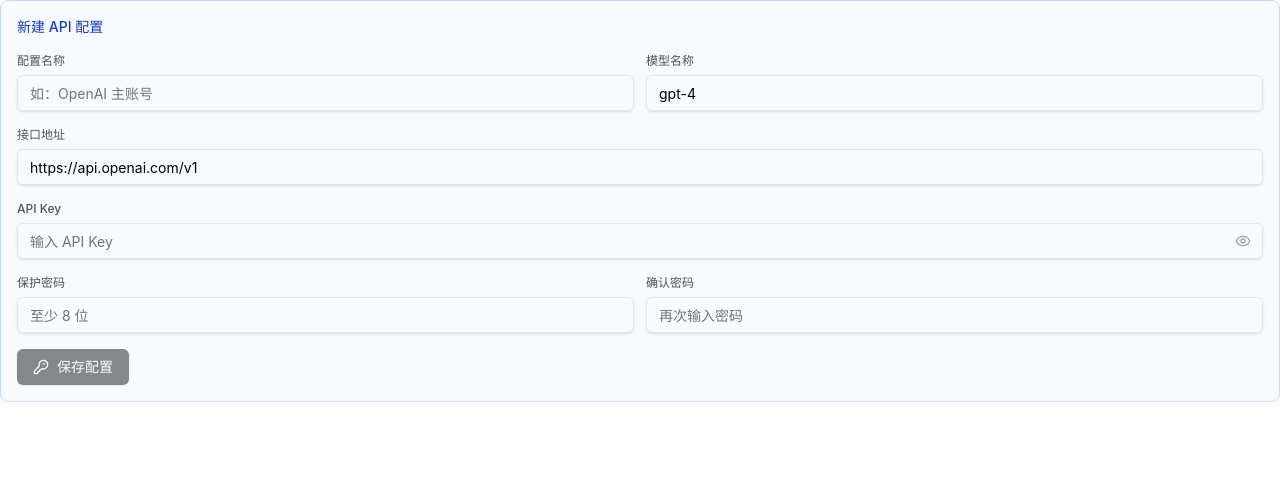
APISettings - Mode A: no API key configured › shows weak password error on first-time save
Type "OpenAI 主账号" into the field labelled "配置名称".
click(326, 93); type("OpenAI 主账号")  # box x1=17 y1=75 x2=634 y2=111
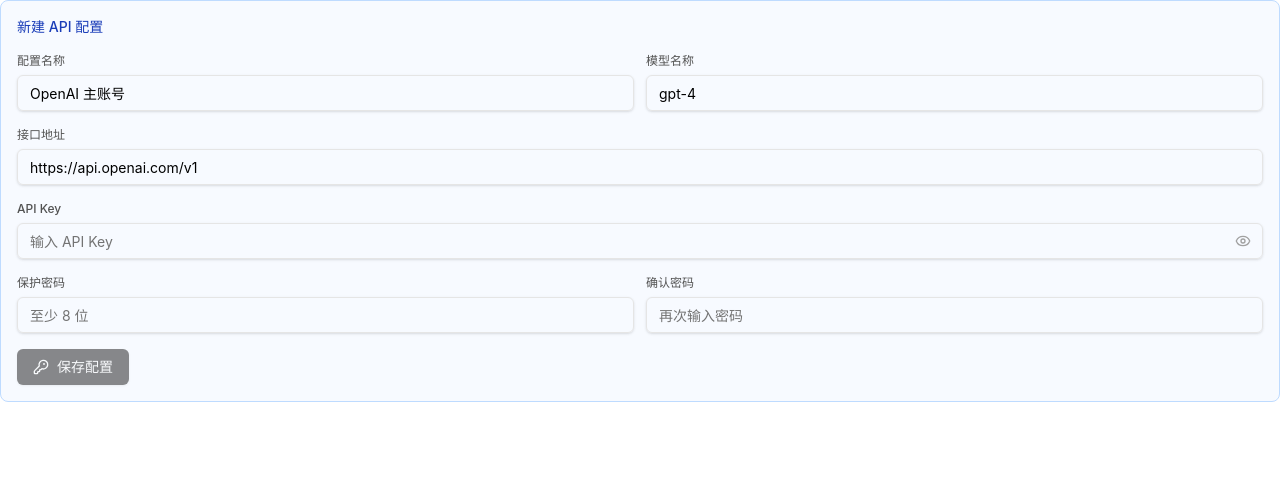
Type "sk-test-123" into the password field with placeholder "输入 API Key".
click(640, 241); type("sk-test-123")  # box x1=17 y1=223 x2=1263 y2=259
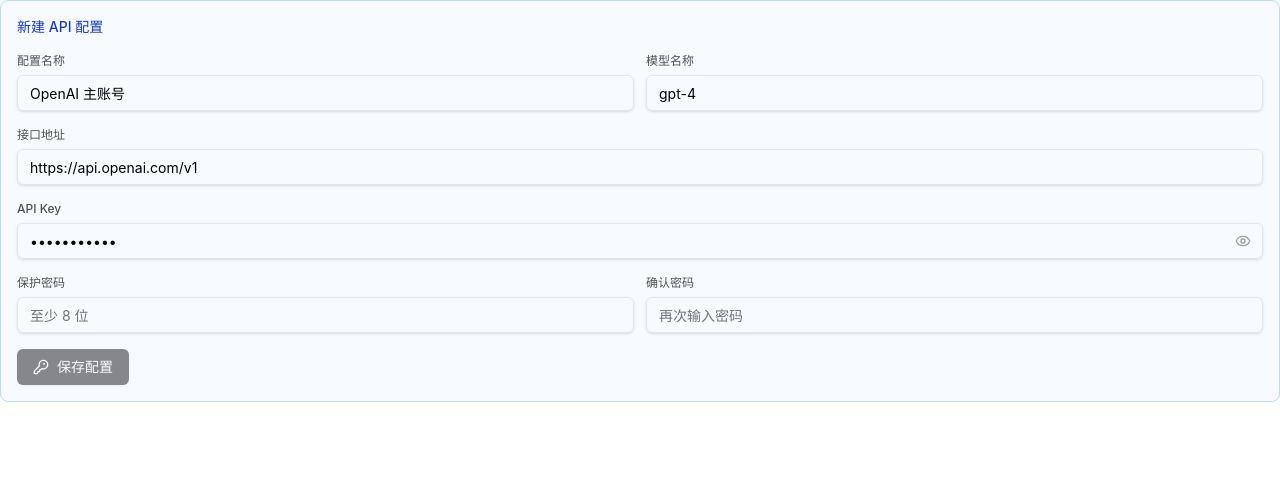
Type "weak123" into the password field labelled "保护密码".
click(326, 315); type("weak123")  # box x1=17 y1=297 x2=634 y2=333
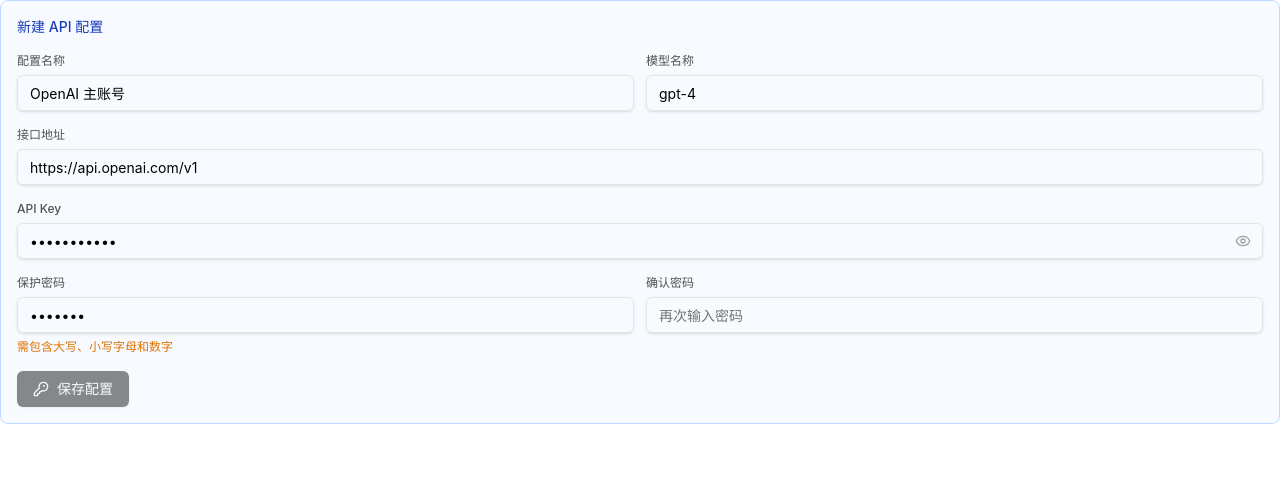
Type "weak123" into the password field labelled "确认密码".
click(954, 315); type("weak123")  # box x1=646 y1=297 x2=1263 y2=333
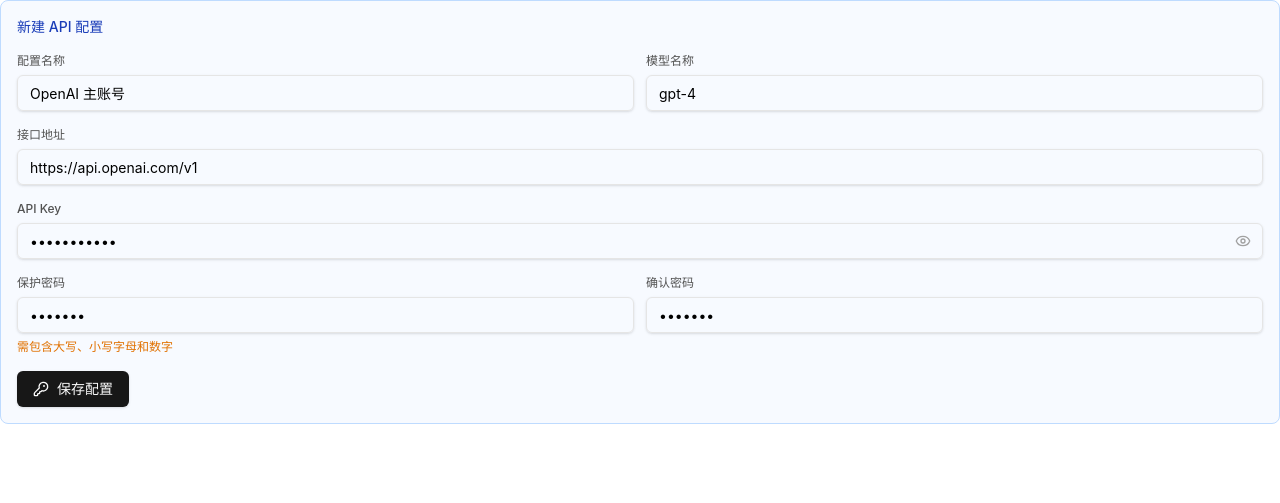
Click the button "保存配置".
click(73, 389)  # box x1=17 y1=371 x2=129 y2=407
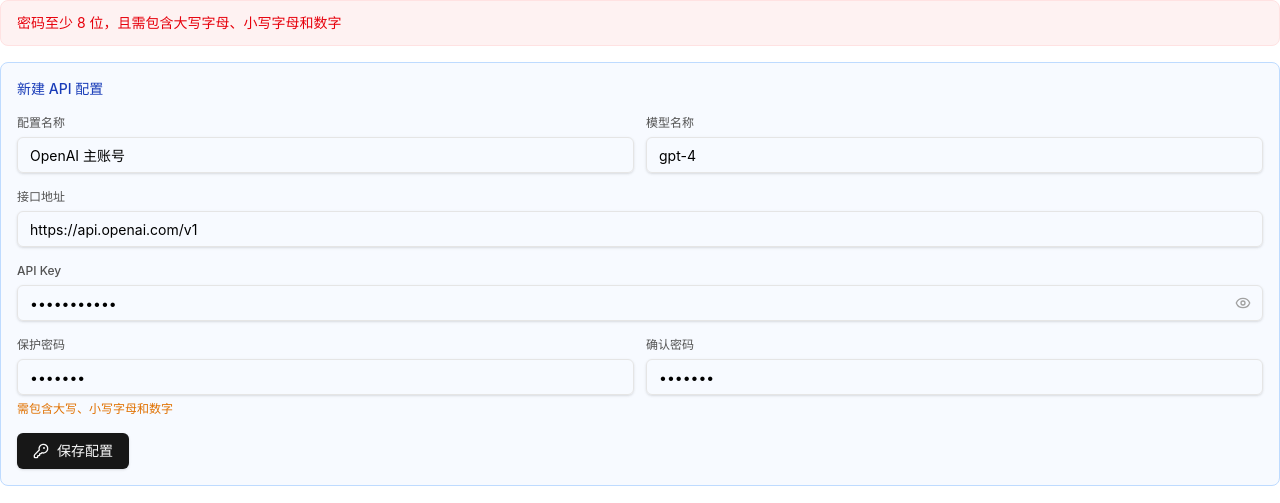
Now the text "密码至少 8 位，且需包含大写字母、小写字母和数字" is shown, box x1=0 y1=0 x2=1279 y2=46
